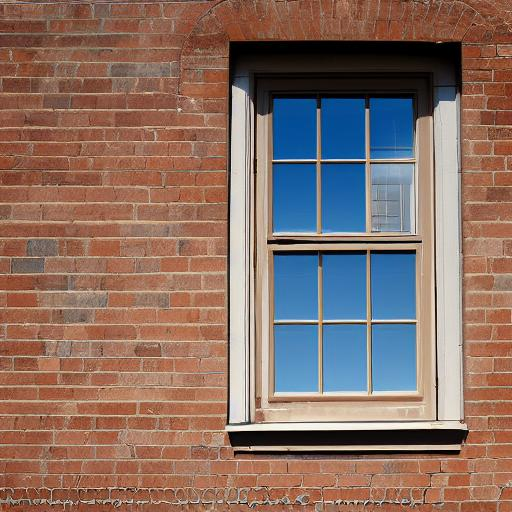Window: (224, 39, 474, 455)
